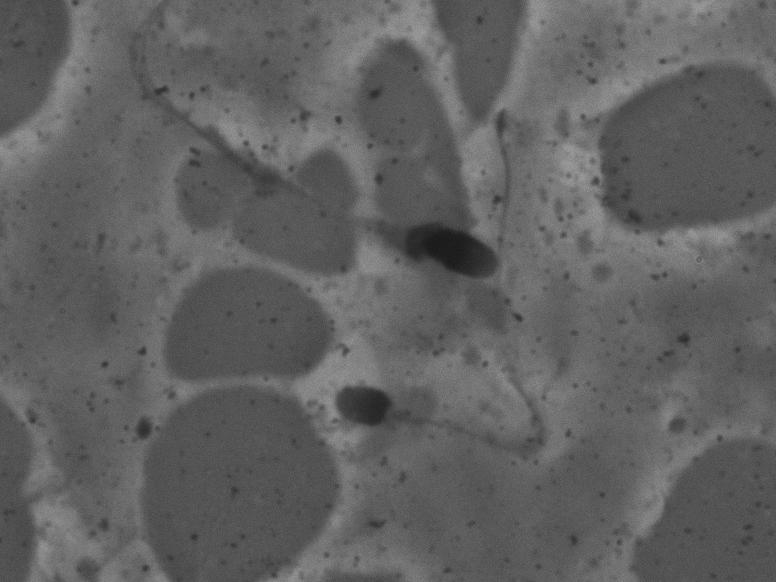Abnormal: (122, 15, 501, 290)
Normal: (327, 96, 558, 487)
